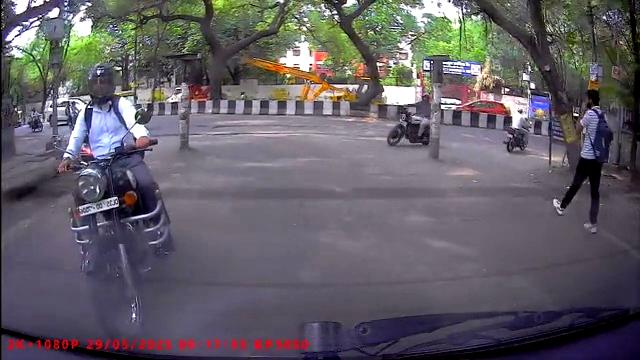motorcycle_with_helmet: (57, 60, 174, 337), (504, 108, 531, 154)
